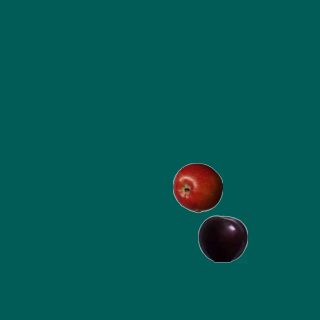Apple Braeburn: (172, 162, 222, 212)
Cherry Wax Black: (197, 213, 247, 263)
